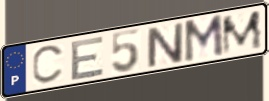5: (111, 26, 143, 74)
C: (31, 43, 67, 86)
E: (70, 34, 107, 82)
M: (182, 12, 225, 66), (220, 8, 265, 57)
N: (144, 21, 185, 70)
